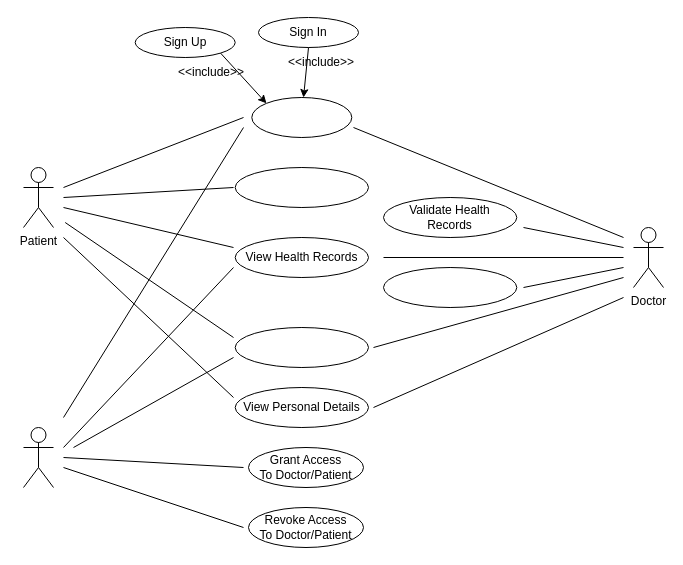
Some shapes in this 683 by 565 pixel diagram are drawn without their labels. The box of each missing label's shape, as (x1, y1, x2, y2) in pixels:
Hospital: (22, 426, 54, 488)
Off-Chain Authentication: (251, 96, 352, 138)
Store Personal Details: (234, 326, 368, 368)
Update Health Records: (382, 266, 517, 308)
Upload Health Records: (234, 166, 368, 208)
